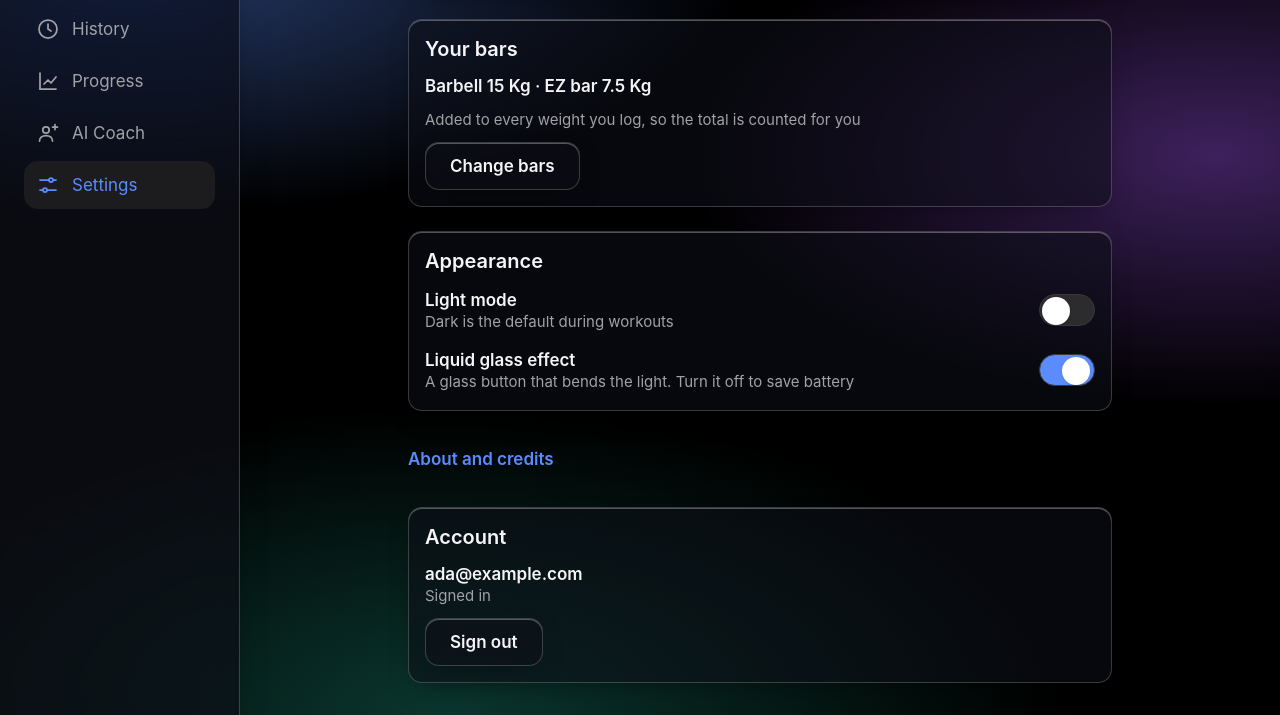
QA sign-out › also warns about sets that failed to sync, not only the ones that are waiting
(page scrolled)
Click the button "Sign out".
click(484, 642)  # box [425, 618, 543, 666]
(page scrolled)
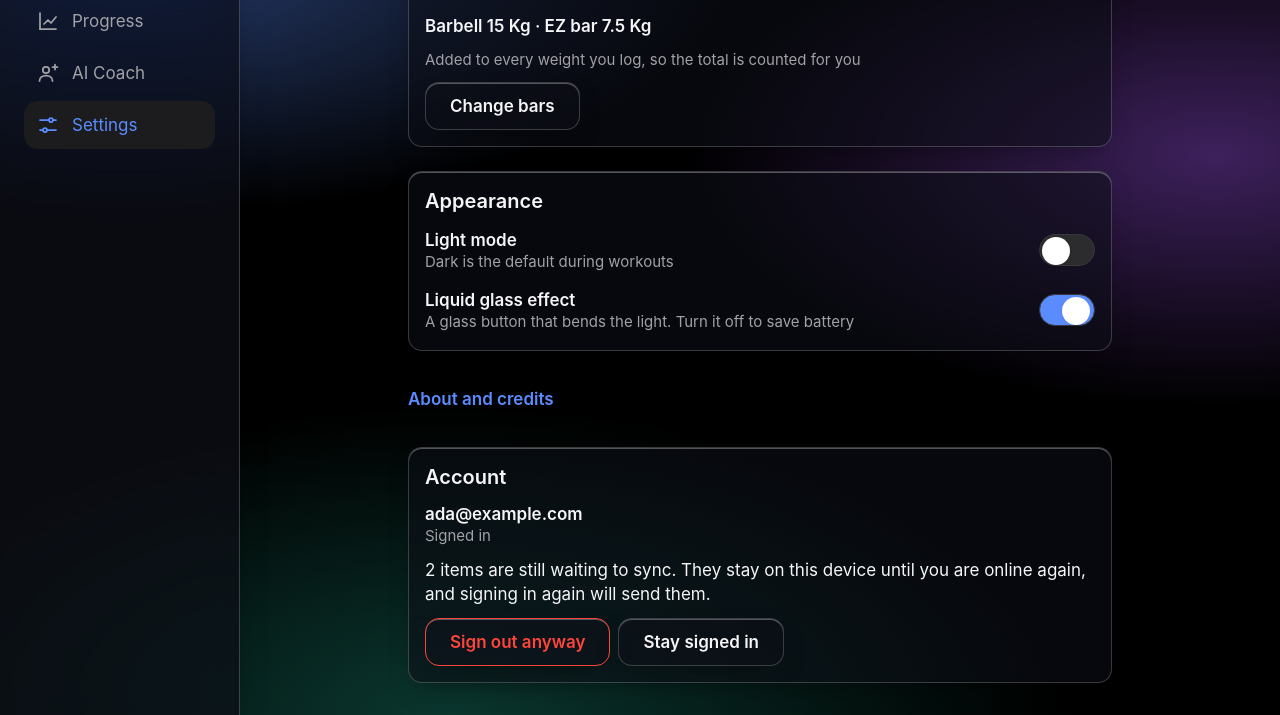
Expected: the element named "Sets waiting" shows "2 items are", [425, 558, 1095, 666]
